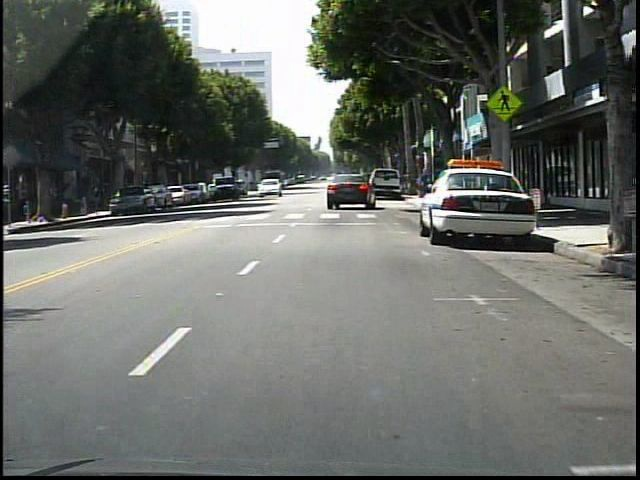person: (417, 165, 438, 205)
